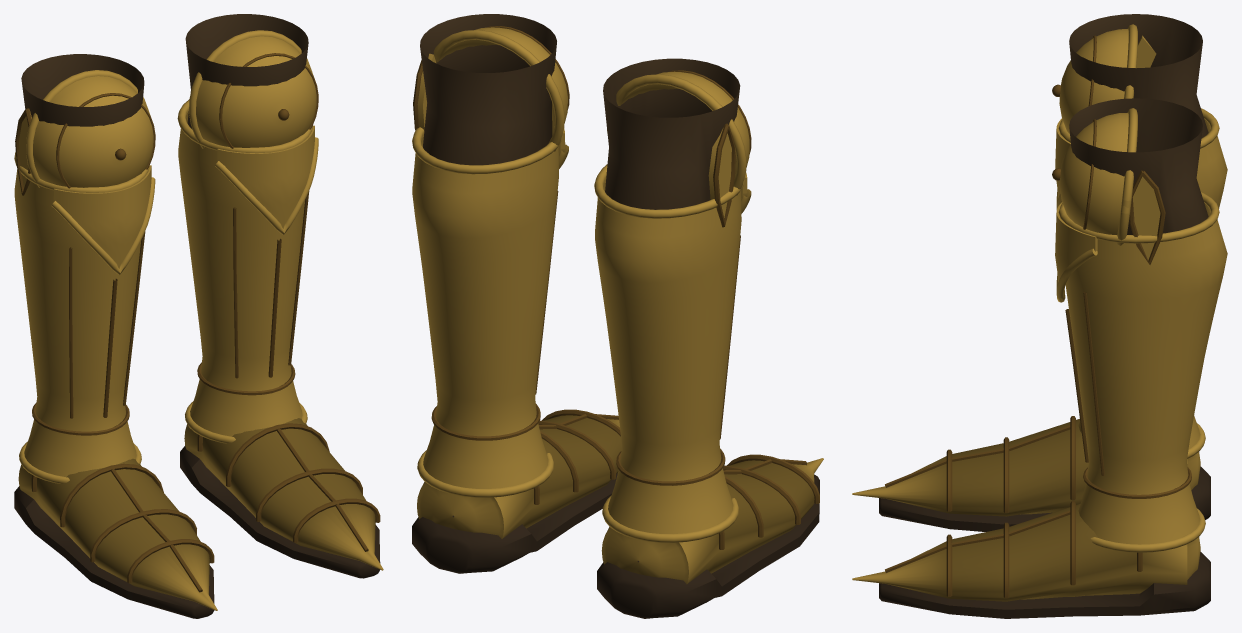
Rendered from f_celestial_f.glb.
3 renders of one model, left to right at view 1: azimuth 30°, elevation 25°; view 2: azimuth 150°, elevation 25°; view 3: azimuth 270°, elevation 25°, orthographic. The views are drawn at different scales.
Parts seen in each view (by area): view 1: LegR_Boot, LegL_Boot, LegL_BootFoot, LegR_BootFoot; view 2: LegL_Boot, LegR_Boot, LegR_BootFoot, LegL_BootFoot; view 3: LegL_Boot, LegL_BootFoot, LegR_BootFoot, LegR_Boot.
Part boxes in pixels (x1=…): LegR_Boot: x1=14, y1=54, x2=155, y2=483; LegL_Boot: x1=177, y1=14, x2=318, y2=443; LegL_BootFoot: x1=180, y1=418, x2=383, y2=578; LegR_BootFoot: x1=14, y1=458, x2=217, y2=618; LegL_Boot: x1=412, y1=14, x2=569, y2=497; LegR_Boot: x1=594, y1=58, x2=751, y2=542; LegR_BootFoot: x1=597, y1=454, x2=823, y2=618; LegL_BootFoot: x1=412, y1=409, x2=621, y2=573; LegL_Boot: x1=1052, y1=98, x2=1227, y2=552; LegL_BootFoot: x1=852, y1=501, x2=1210, y2=618; LegR_BootFoot: x1=852, y1=416, x2=1210, y2=531; LegR_Boot: x1=1052, y1=14, x2=1227, y2=458.
Bounding box in the file's own units: 0.3715 × 0.5656 × 0.3991.
